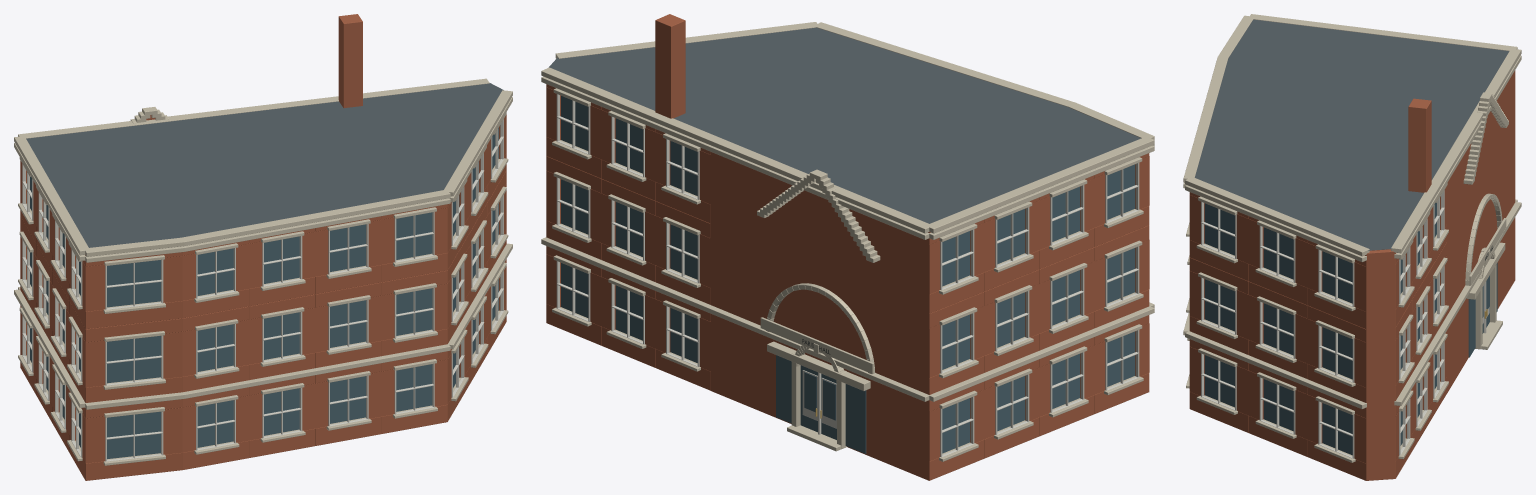
Rendered from par-exterior-3bbf3a0e72ce.glb.
3 renders of one model, left to right at view 1: azimuth 30°, elevation 25°; view 2: azimuth 150°, elevation 25°; view 3: azimuth 270°, elevation 25°, orthographic. The views are drawn at different scales.
Visible parts, largest first — view 1: PAR.001; view 2: PAR.001; view 3: PAR.001.
Part boxes in pixels (bbox=[...]): PAR.001: bbox=[14, 14, 512, 480]; PAR.001: bbox=[541, 14, 1154, 480]; PAR.001: bbox=[1183, 14, 1521, 480].
Bounding box in the file's own units: 23.81 × 14.65 × 14.27.
